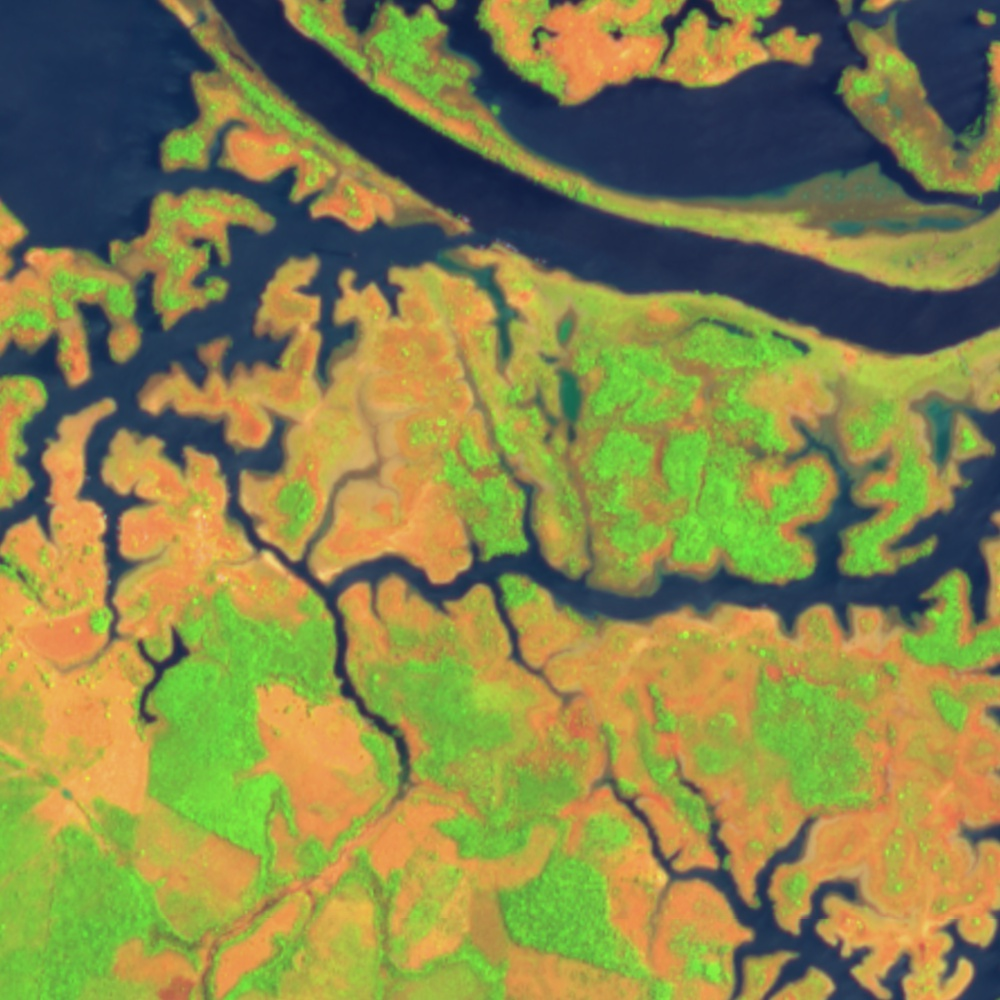legal: (1, 1, 998, 998)
